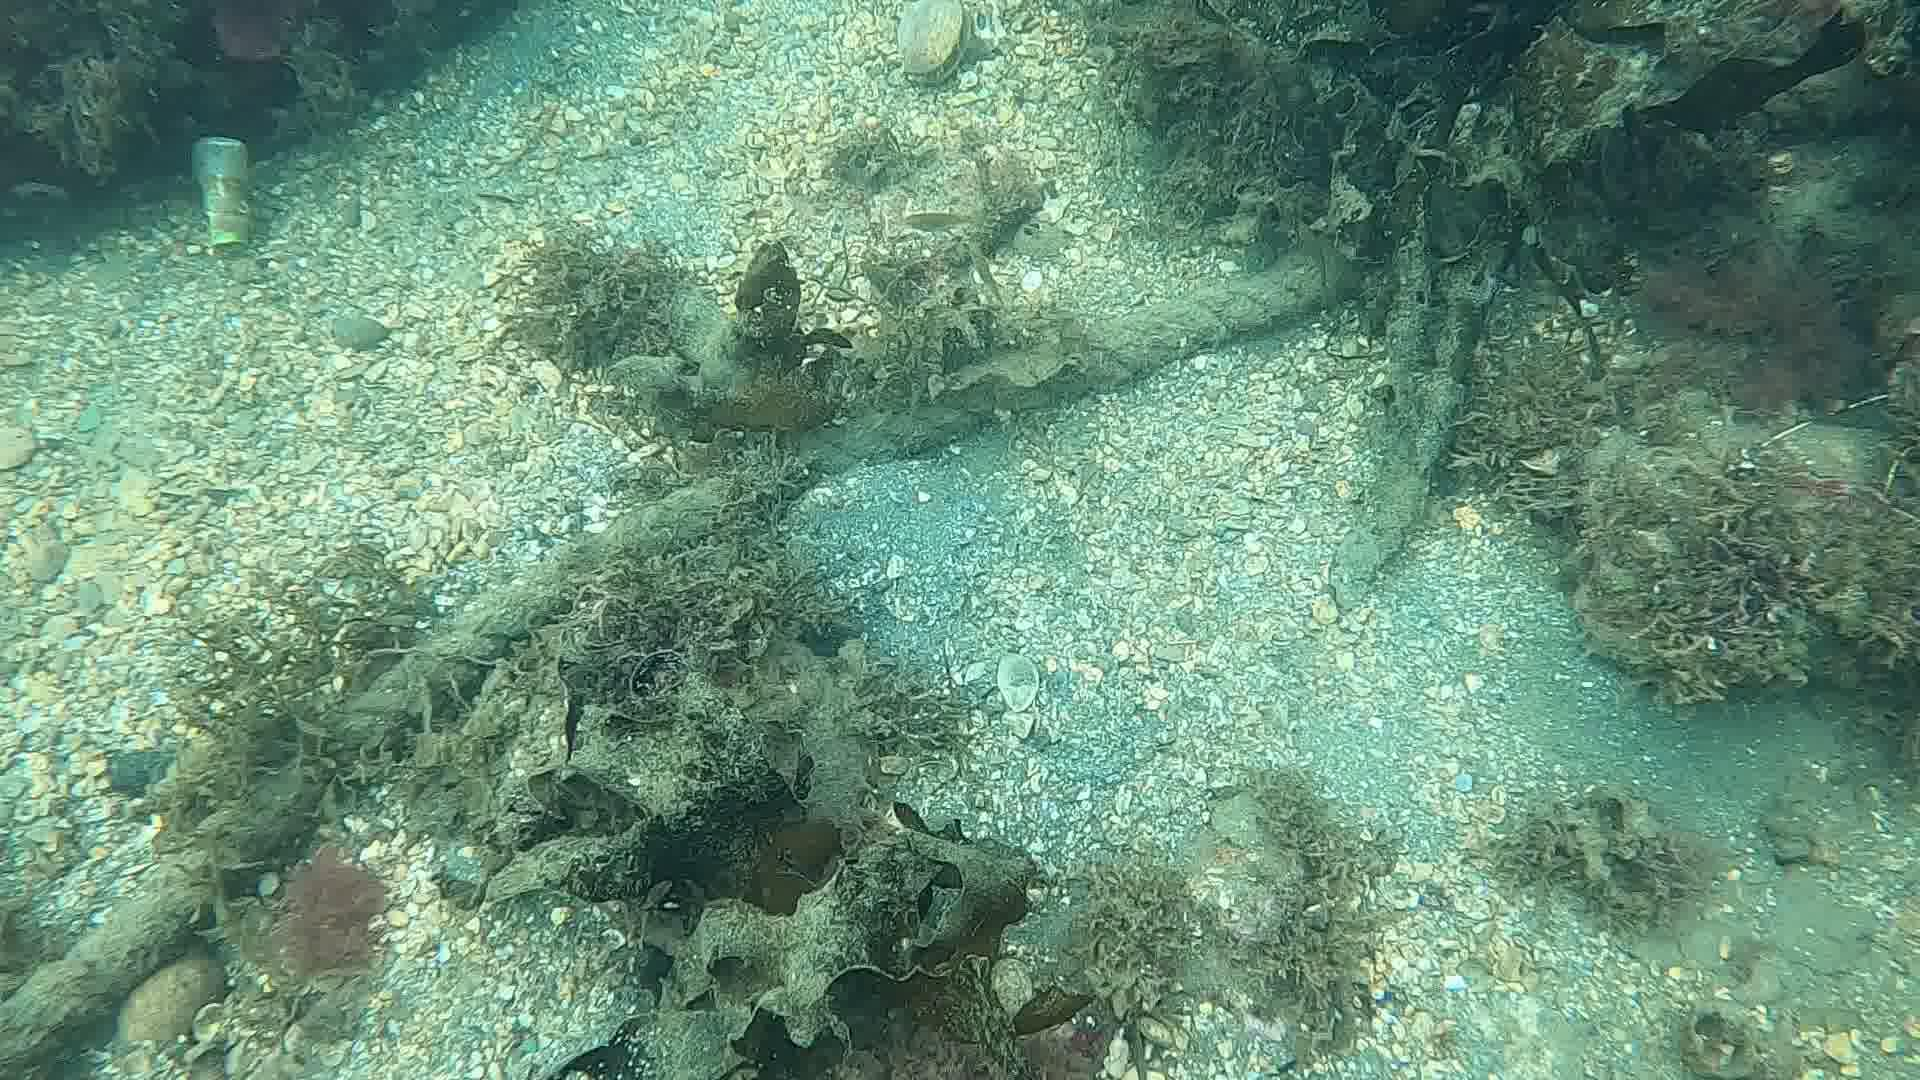rope: (0, 239, 1349, 1080)
